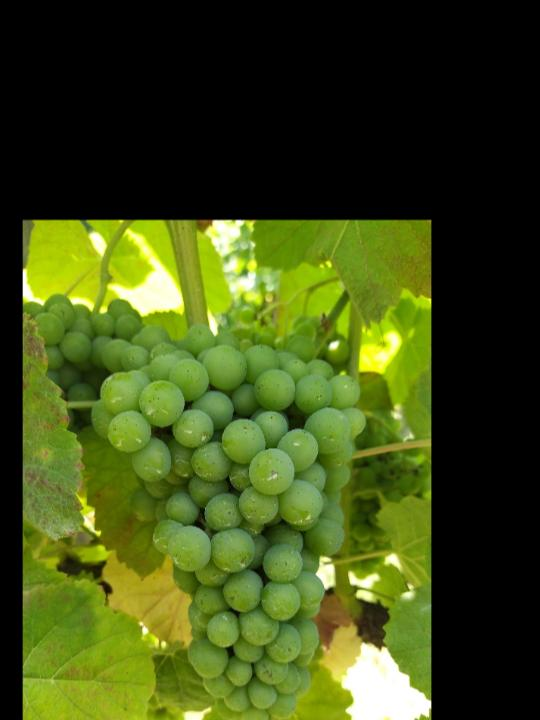grape: (89, 343, 369, 720)
